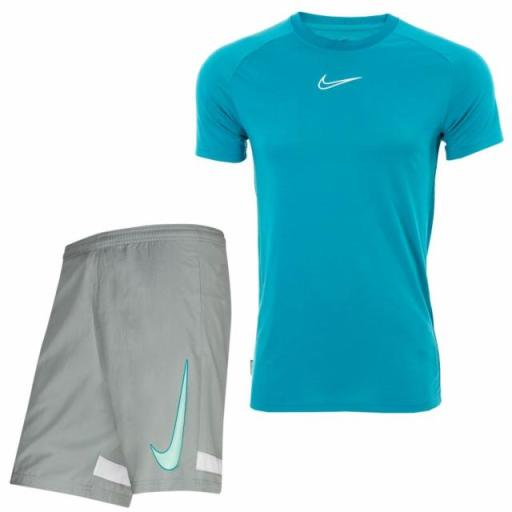Nike: (310, 72, 372, 94)
